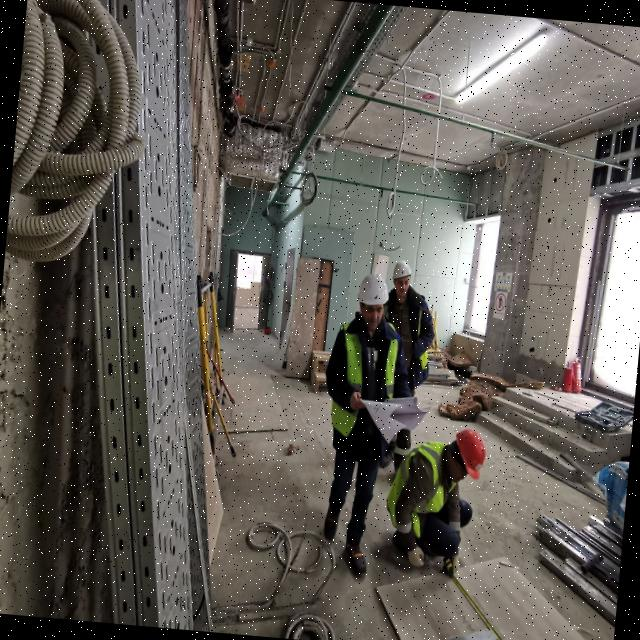Helmet: (453, 430, 490, 480), (356, 274, 392, 309), (393, 261, 414, 283)
Jacket: (332, 327, 399, 435), (391, 443, 450, 525), (397, 301, 435, 370)
